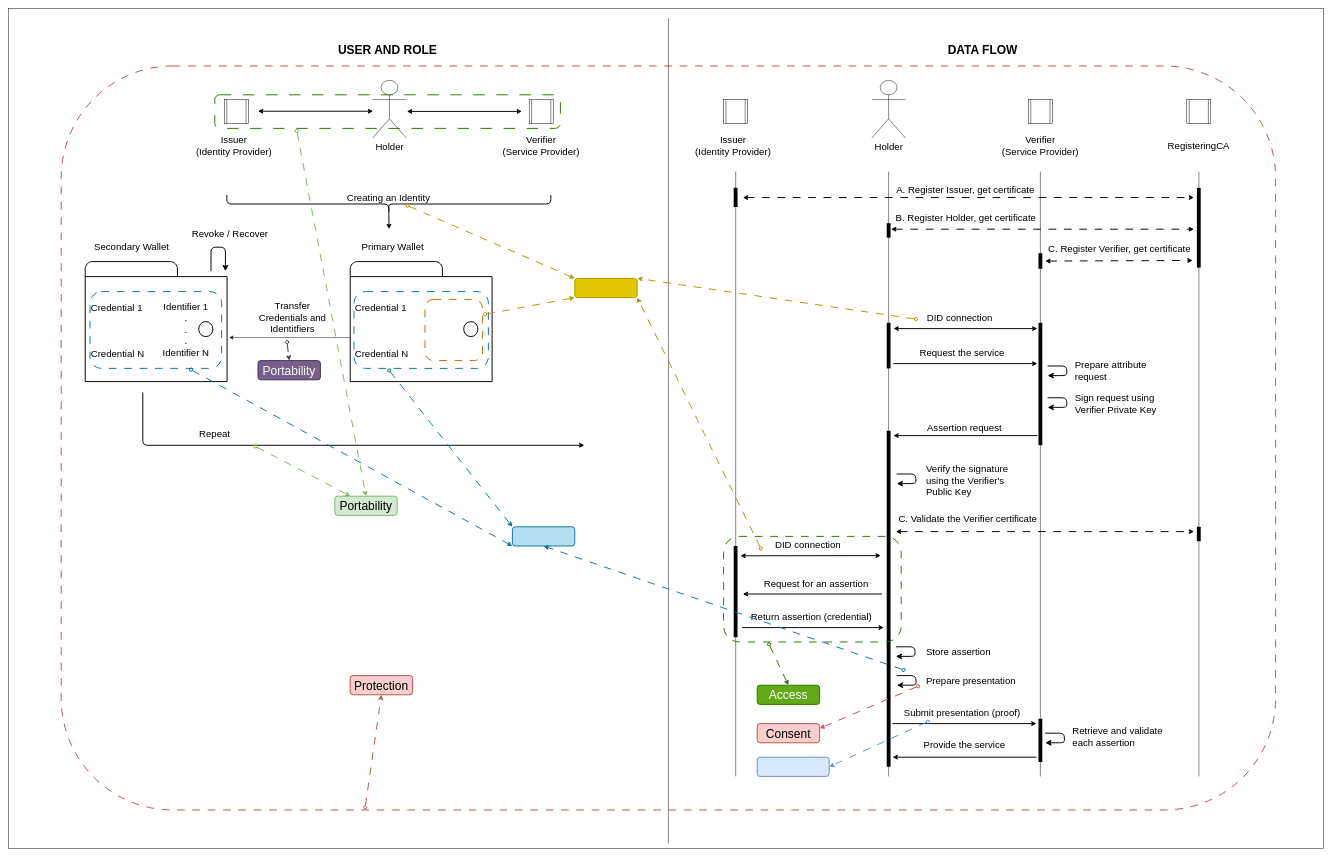
The diagram is 1332 pixels wide and 857 high, and some of its shapes have lost their labels. Each missing label, with the centre of its shape:
"Control" belongs at pixel 543 536.
"Existence" belongs at pixel 605 288.
"Identifier 1 Identifier N" belongs at pixel 453 330.
"Minimization" belongs at pixel 792 766.
